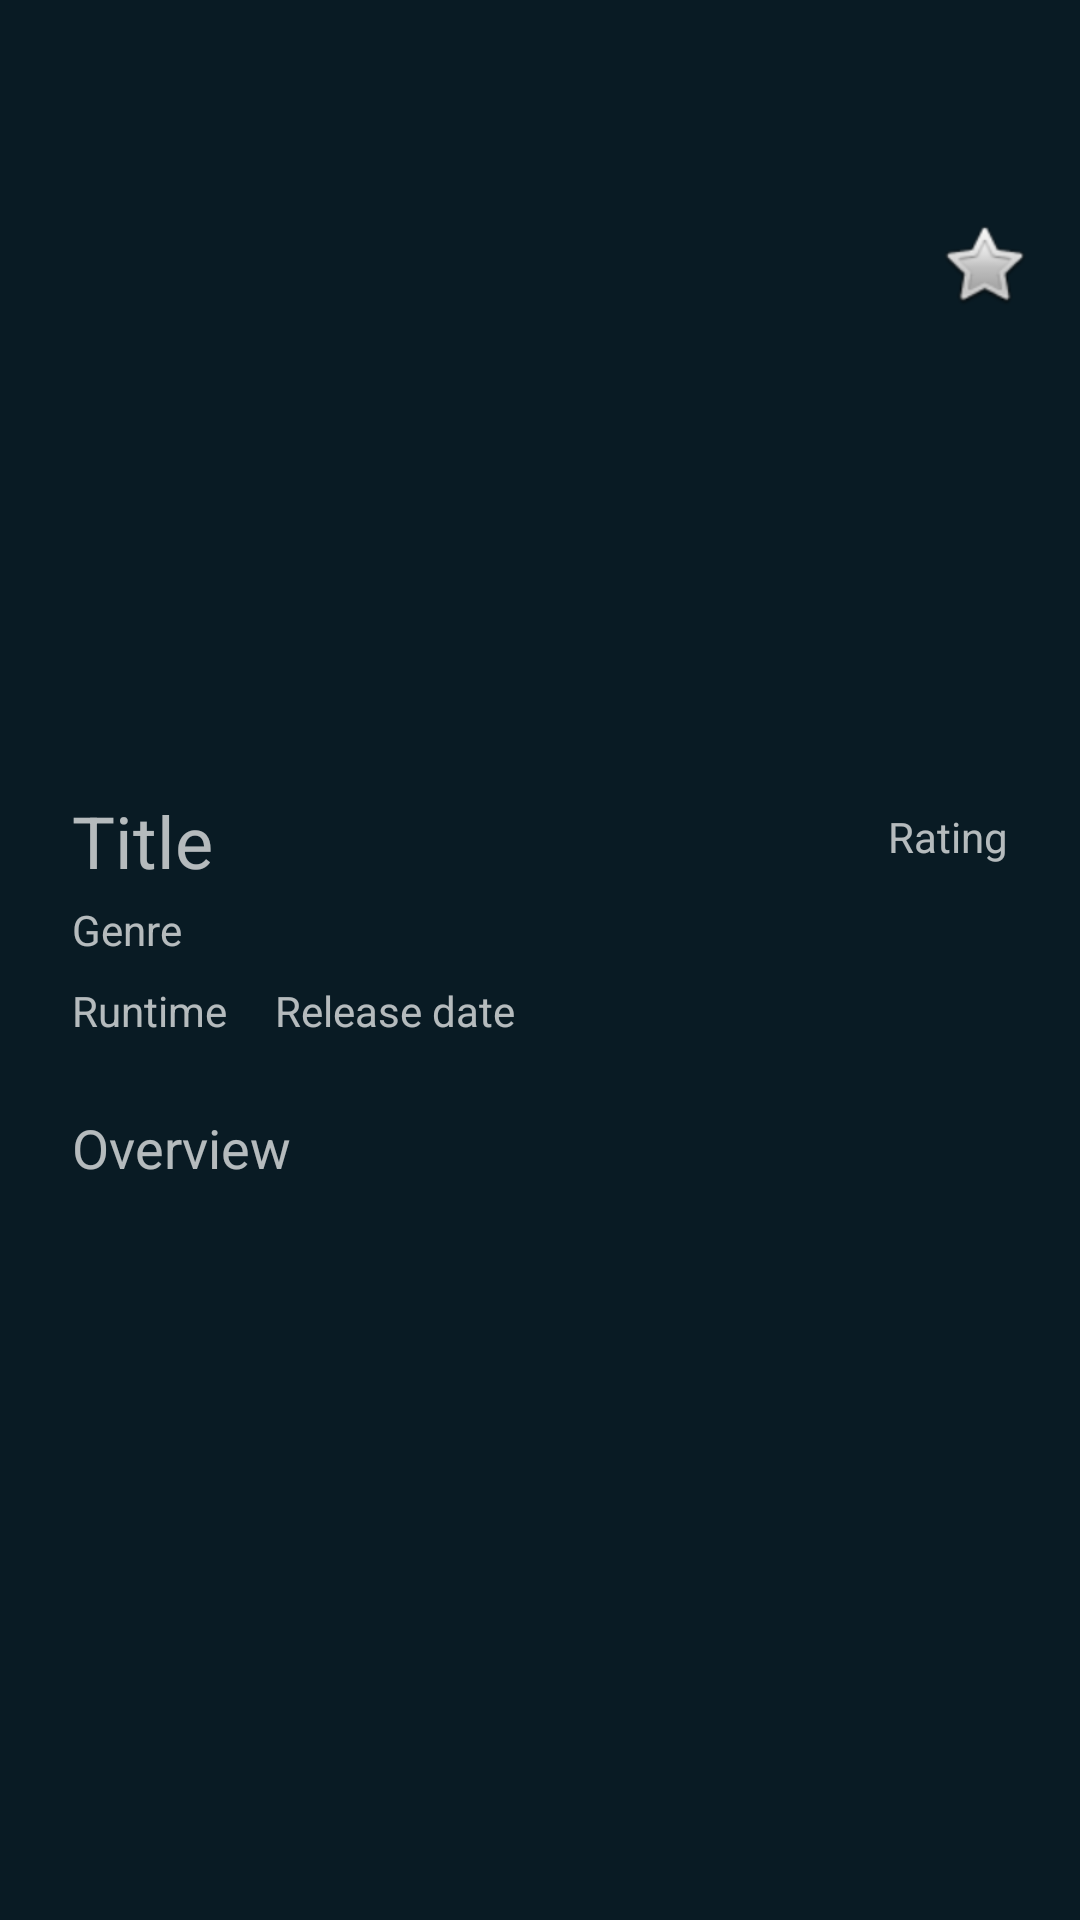

Point at icon controls on the screen. Image size 1080px×1920px, points as (x,y).
star: (984,263)
